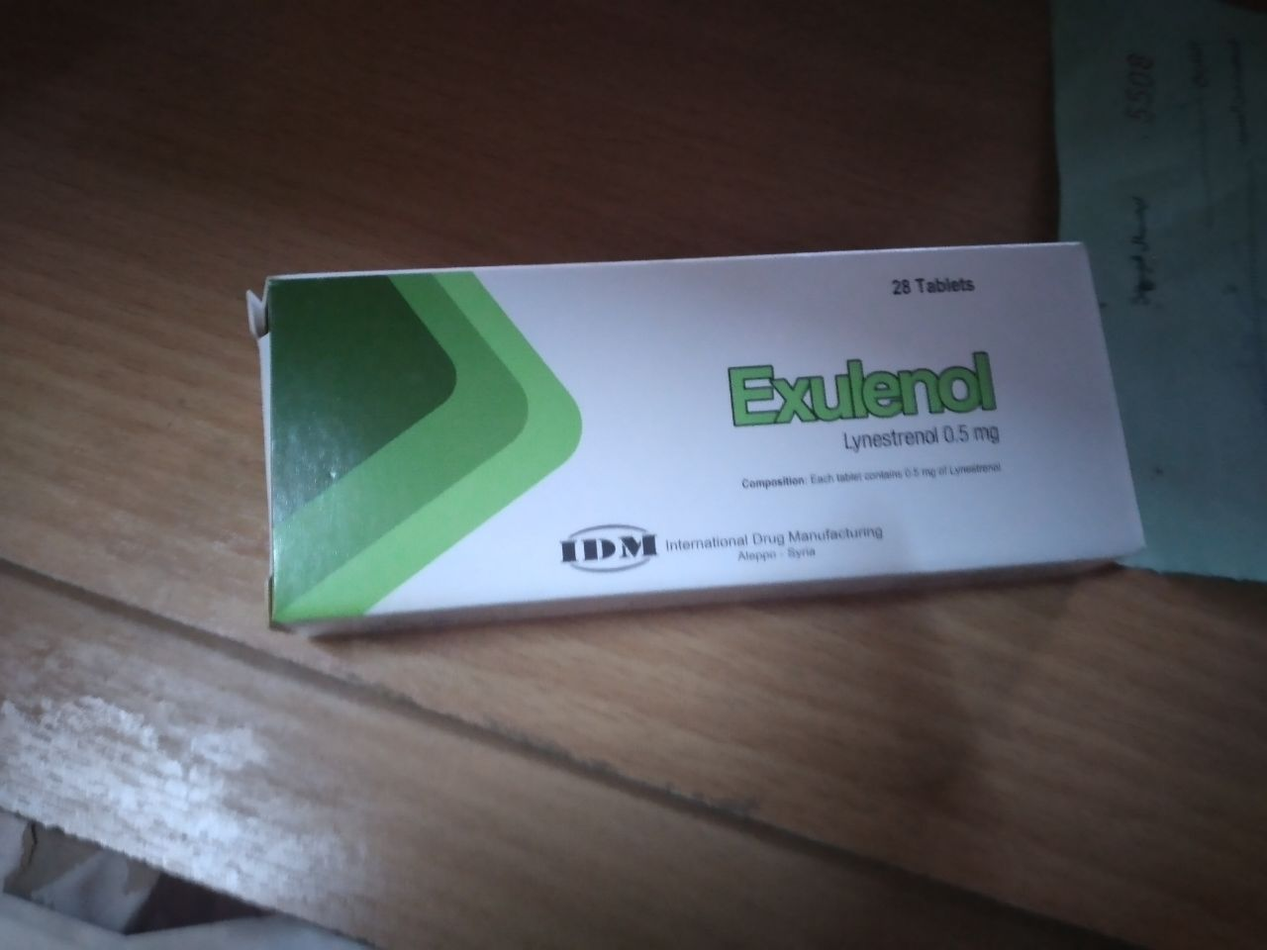Medicine: (250, 238, 1168, 643)
